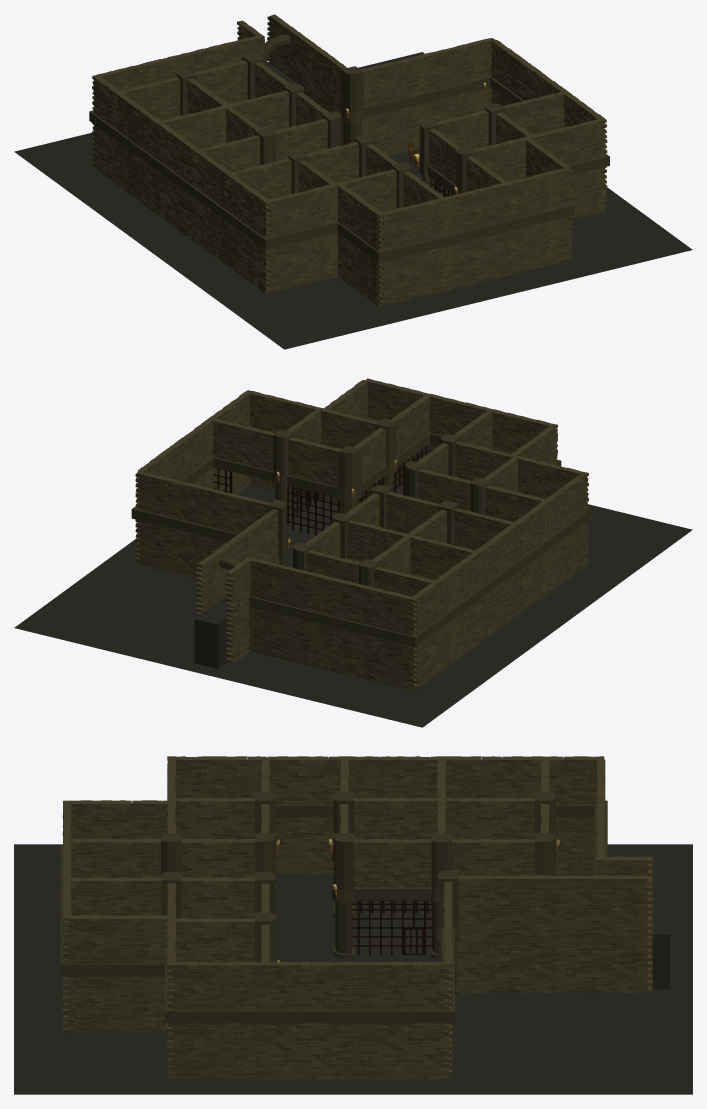
Rendered from Prison.fbx.
The picture shows the model from 3 angles, top to bottom: view 1: azimuth 30°, elevation 25°; view 2: azimuth 150°, elevation 25°; view 3: azimuth 270°, elevation 25°; orthographic projection. The views are drawn at different scales.
Parts seen in each view (by area): view 1: Prison_Wall, Prison_Floor, Prison_Wall_Details; view 2: Prison_Wall, Prison_Floor, Prison_Wall_Details, Prison_Cells; view 3: Prison_Wall, Prison_Floor, Prison_Wall_Details, Prison_Cells.
Part boxes in pixels (<box>): Prison_Wall: <box>92,14,607,305</box>; Prison_Floor: <box>14,52,692,349</box>; Prison_Wall_Details: <box>89,34,609,262</box>; Prison_Wall: <box>135,378,588,690</box>; Prison_Floor: <box>14,479,692,727</box>; Prison_Wall_Details: <box>131,417,591,652</box>; Prison_Cells: <box>213,446,427,535</box>; Prison_Wall: <box>62,756,652,1079</box>; Prison_Floor: <box>14,844,692,1094</box>; Prison_Wall_Details: <box>60,792,607,1023</box>; Prison_Cells: <box>239,900,433,1003</box>.
Size of the model in its own units: 3833 by 851 by 4394.
